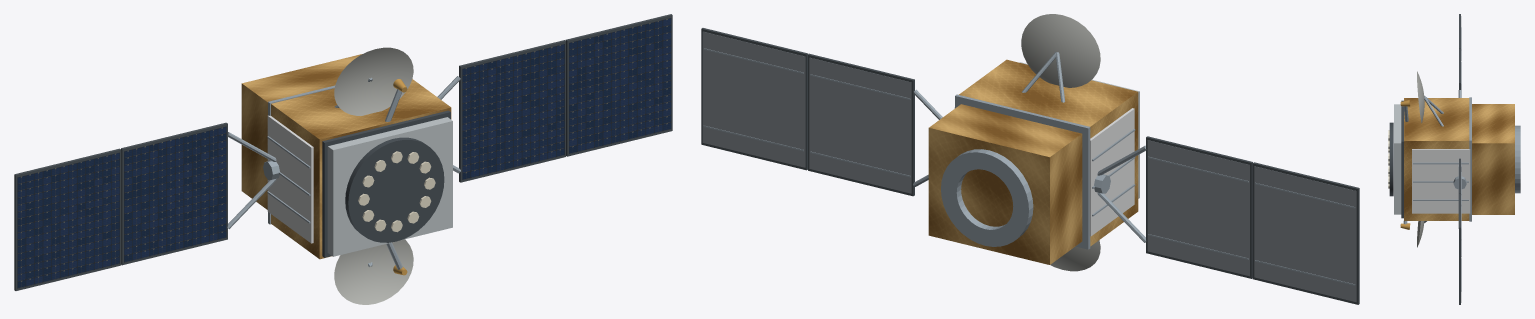
Rendered from ref-dscs-iii-13637.glb.
3 renders of one model, left to right at view 1: azimuth 30°, elevation 25°; view 2: azimuth 150°, elevation 25°; view 3: azimuth 270°, elevation 25°, orthographic. The views are drawn at different scales.
Visible parts, largest first — view 1: Solar cell panel (×4), Communications reflector (×2), Planar antenna aperture, Payload module, Antenna equipment shelf, Solar panel frame (×4), Service module, Radiator face, Earth-facing deck; view 2: Rear array substrate (×4), Service module, Payload module, Solar panel frame (×4), Communications reflector (×2), Launch adapter ring, Radiator face, Module interface; view 3: Service module, Payload module, Radiator face, Antenna equipment shelf, Launch adapter ring, Communications reflector (×2), Planar antenna aperture, Earth-facing deck, Module interface, Radiator seam (×2), Solar panel frame, Array drive (+2 smaller).
Boxes of the visible parts, x1,y1,x2,y2 form: Solar cell panel (×4): (17,18,671,288); Communications reflector (×2): (334,47,413,304); Planar antenna aperture: (345,137,444,242); Payload module: (271,79,451,259); Antenna equipment shelf: (327,117,452,256); Solar panel frame (×4): (14,14,672,290); Service module: (241,54,362,209); Radiator face: (267,115,313,243); Earth-facing deck: (322,110,450,257); Rear array substrate (×4): (702,31,1356,302); Service module: (928,104,1082,264); Payload module: (959,59,1138,246); Solar panel frame (×4): (701,28,1359,304); Communications reflector (×2): (1021,14,1100,271); Launch adapter ring: (941,149,1033,246); Radiator face: (1089,108,1134,236); Module interface: (955,94,1090,249); Service module: (1472,104,1514,214); Payload module: (1404,98,1469,220); Radiator face: (1412,149,1470,213); Antenna equipment shelf: (1394,104,1401,214); Launch adapter ring: (1515,125,1520,193); Communications reflector (×2): (1417,71,1424,247); Planar antenna aperture: (1389,122,1393,196); Earth-facing deck: (1401,100,1403,218); Module interface: (1469,97,1471,221); Radiator seam (×2): (1413,162,1468,200); Solar panel frame: (1459,193,1460,304); Array drive: (1453,176,1466,189).
Size of the model in its own units: 9.48 by 3.51 by 2.49.
10 materials, 2 textured.
